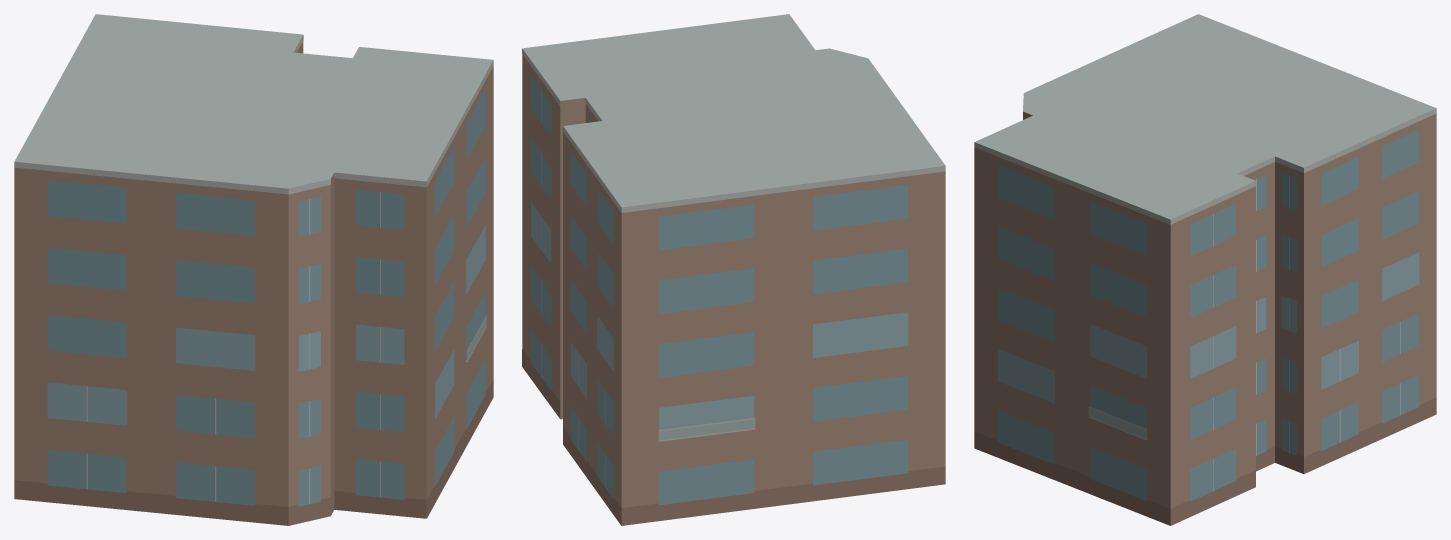
The model's file is survey-upis-32618951.glb.
The picture shows the model from 3 angles, left to right: view 1: azimuth 30°, elevation 25°; view 2: azimuth 150°, elevation 25°; view 3: azimuth 270°, elevation 25°; orthographic projection. The views are drawn at different scales.
Visible parts, largest first — view 1: survey-upis-32618951.tmp; view 2: survey-upis-32618951.tmp; view 3: survey-upis-32618951.tmp.
Part boxes in pixels (<box>): survey-upis-32618951.tmp: <box>14,14,493,525</box>; survey-upis-32618951.tmp: <box>522,14,945,525</box>; survey-upis-32618951.tmp: <box>974,14,1436,525</box>.
Size of the model in its own units: 20.31 by 14.1 by 19.29.
